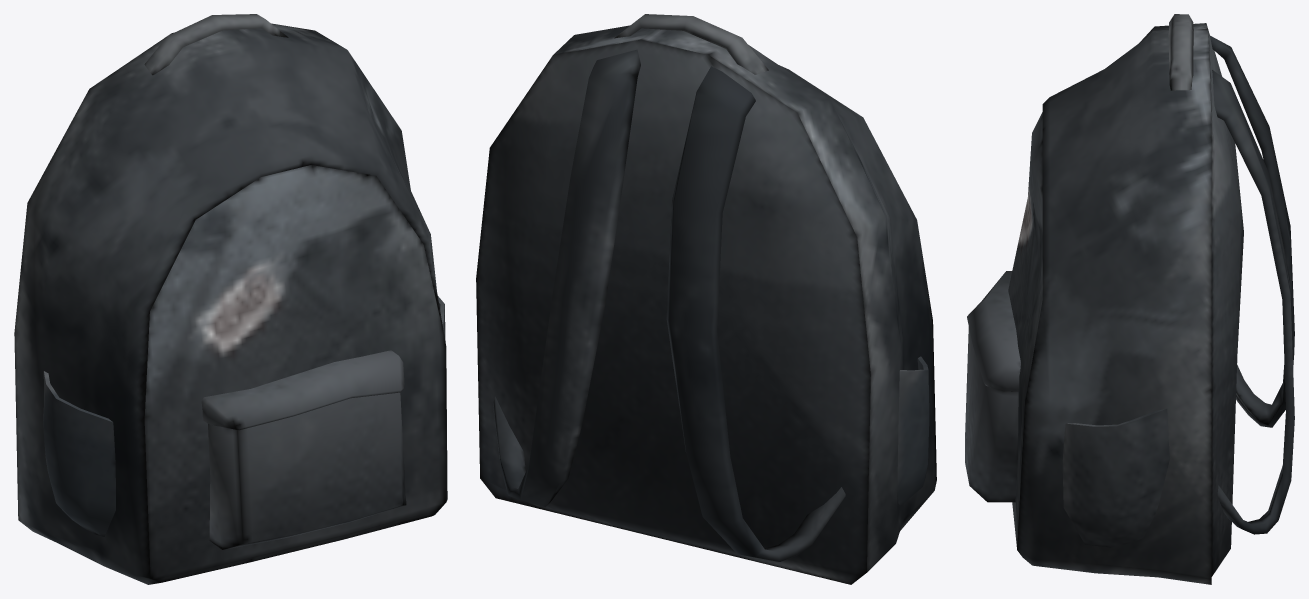
File: Backpack_Asset.fbx
3 views of the same model, side by side, from view 1: azimuth 30°, elevation 25°; view 2: azimuth 150°, elevation 25°; view 3: azimuth 270°, elevation 25° (orthographic). The views are drawn at different scales.
Visible parts, largest first — view 1: Backpack; view 2: Backpack; view 3: Backpack.
Boxes of the visible parts, x1,y1,x2,y2 form: Backpack: [14, 14, 447, 584]; Backpack: [476, 14, 936, 584]; Backpack: [965, 14, 1294, 584].
Bounding box in the file's own units: 35.3 × 26.03 × 41.58.
Materials: 1 (1 with a texture image).
